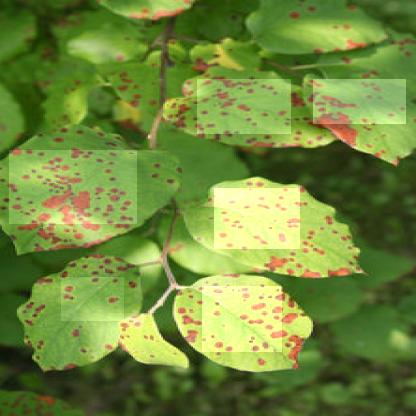black-spot: (9, 150, 137, 224), (202, 286, 282, 352), (214, 188, 300, 249), (197, 79, 291, 134), (313, 79, 406, 124), (61, 277, 124, 321)
